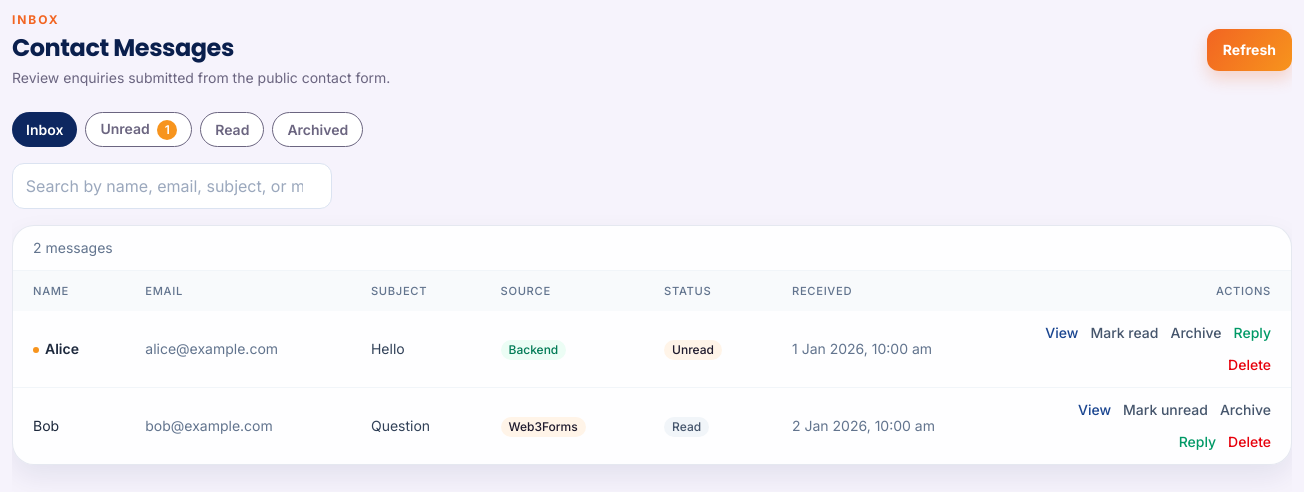
Test: MessagesView › the Archived tab shows only archived messages
This screenshot has width=1304, height=492.
Click the tab "Archived" at point(318, 130), box x1=272 y1=112 x2=363 y2=147
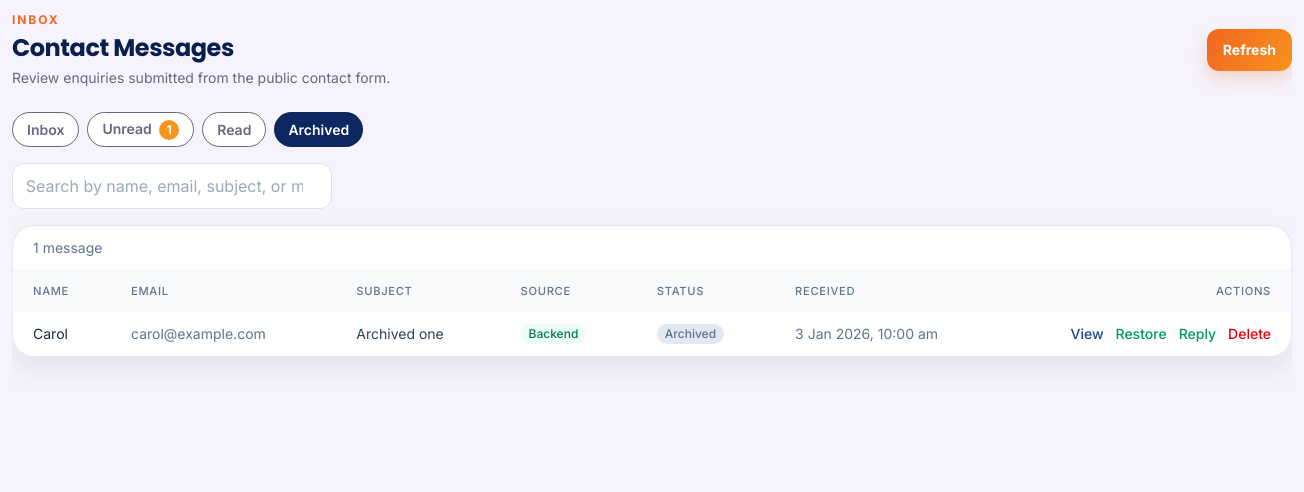
Check: the text "Carol" is shown, box x1=13 y1=311 x2=111 y2=356
Check: the text "Alice" is gone
